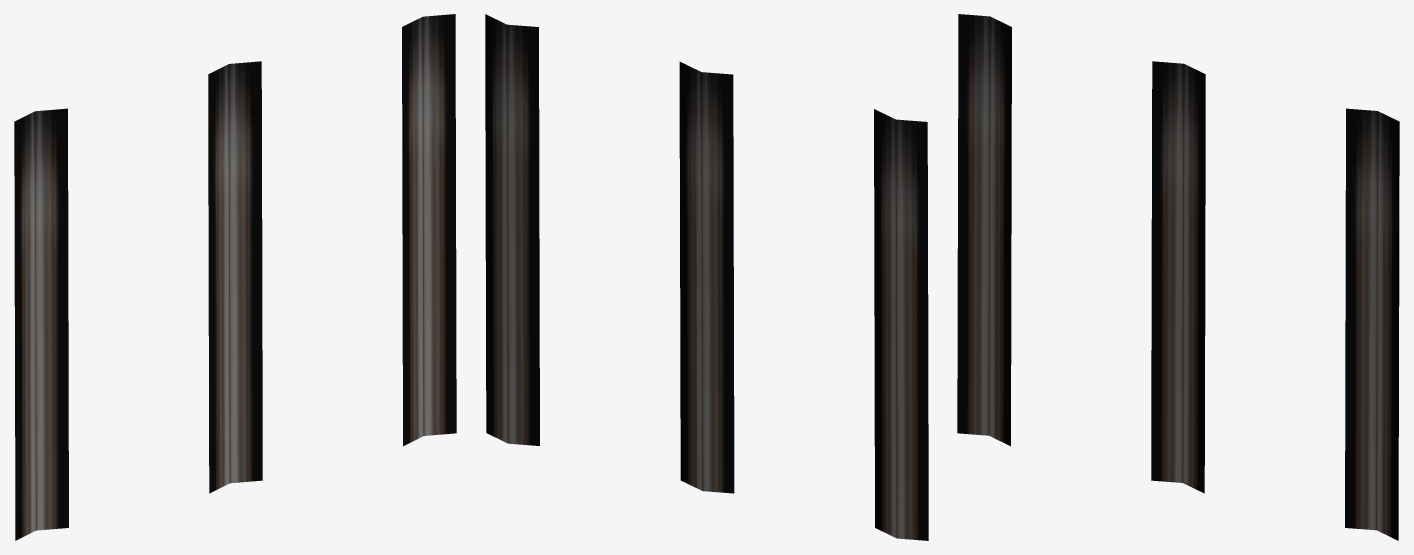
The model's file is misc_c_lr_rem2.glb.
3 views of the same model, side by side, from view 1: azimuth 30°, elevation 25°; view 2: azimuth 150°, elevation 25°; view 3: azimuth 330°, elevation 25° (orthographic).
Parts seen in each view (by area): view 1: misc_c_lr_rem2; view 2: misc_c_lr_rem2; view 3: misc_c_lr_rem2.
Boxes of the visible parts, <box> form: misc_c_lr_rem2: <box>14,14,456,540</box>; misc_c_lr_rem2: <box>485,14,928,540</box>; misc_c_lr_rem2: <box>957,14,1399,540</box>.
Bounding box in the file's own units: 0.4553 × 0.4127 × 0.0116.
Materials: 1 (1 with a texture image).
